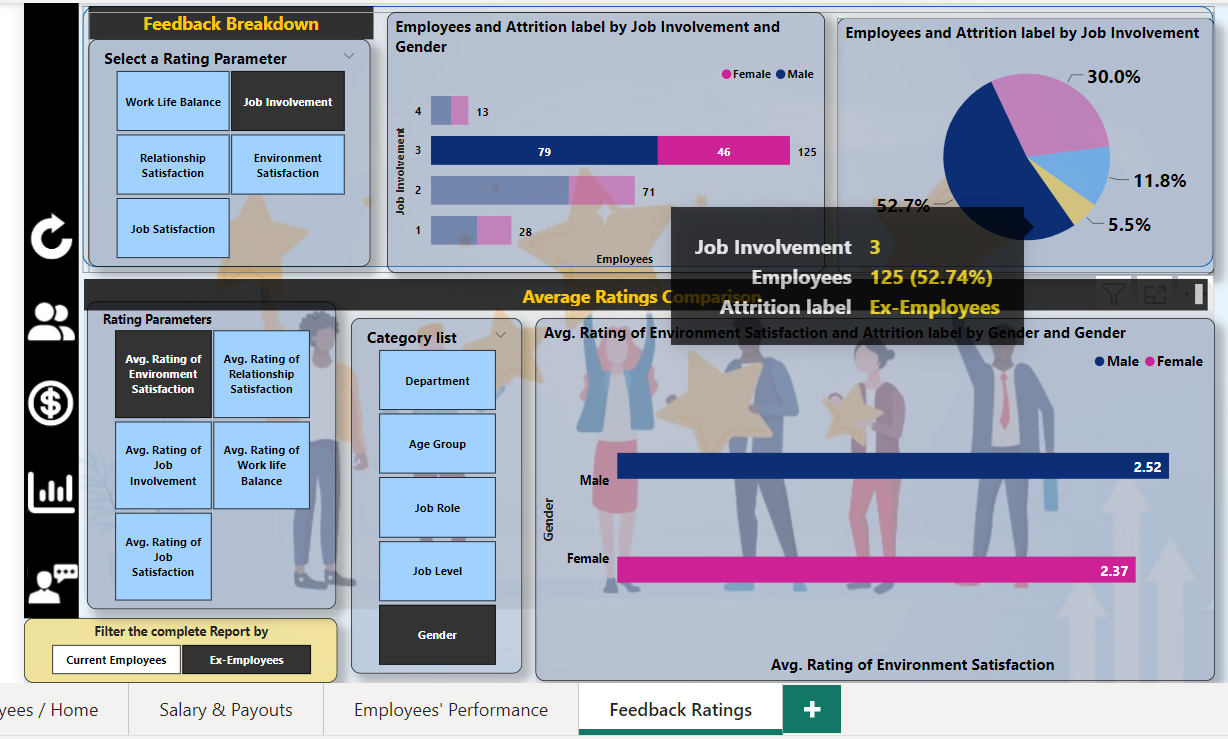

Layout of this report page (visuals, bound fields, positions):
{"tool":"powerbi","page":{"name":"Feedback Ratings","canvas":[1280,720],"ordinal":3},"visuals":[{"type":"shape","box":[0,0,58.2,652],"z":0,"group":"g4"},{"type":"shape","box":[62,3.2,1198.3,276.7],"z":0,"group":"g3"},{"type":"slicer","fields":{"Values":["Set of Rating Matrices.Set of Rating Matrices"]},"box":[68.8,38.1,298.8,241.6],"z":0,"group":"g2"},{"type":"actionButton","box":[0,215.2,58.2,64.7],"z":0,"group":"g1"},{"type":"slicer","title":"Filter the complete Report by","fields":{"Values":["Employees.attrition label"]},"box":[0,651.7,331.7,68.3],"z":0},{"type":"textbox","box":[68.6,3.2,301.7,35],"z":1000,"group":"g3"},{"type":"pieChart","fields":{"Category":["Ratings.Work Life Balance (Rating)"],"Y":["Measures Table.#1 Total Employees"]},"box":[862.2,15,400.5,271.8],"z":1000,"group":"g2"},{"type":"group","id":"g1","title":"Group 6","box":[0,215.2,69.6,432],"z":1000,"group":"g4"},{"type":"actionButton","box":[0,309,58.2,58.2],"z":1000,"group":"g1"},{"type":"shape","box":[542.3,642.6,720,76.7],"z":1000,"group":"g5"},{"type":"group","id":"g2","title":"Group 1","box":[68.8,9.2,1193.9,277.6],"z":2000,"group":"g3"},{"type":"barChart","fields":{"Category":["Ratings.Work Life Balance (Rating)"],"Y":["Measures Table.#1 Total Employees"],"Series":["Employees.Gender"]},"box":[385.4,9.2,464.1,276.6],"z":2000,"group":"g2"},{"type":"shape","box":[64,290.9,1198.3,351.7],"z":2000,"group":"g5"},{"type":"actionButton","box":[0,396.4,58.2,56.6],"z":2000,"group":"g1"},{"type":"actionButton","box":[0,482.2,58.2,74.4],"z":3000,"group":"g1"},{"type":"group","id":"g3","title":"Feedback Breakdown","box":[62,3.2,1200.8,283.6],"z":4000},{"type":"actionButton","box":[0,585.7,69.6,61.5],"z":4000,"group":"g1"},{"type":"slicer","fields":{"Values":["#Parameter- Avg Ratings.#Parameter- Avg Ratings"]},"box":[66.7,316.2,263.8,325.8],"z":5000,"group":"g5"},{"type":"group","id":"g4","title":"Navigation Bar #group","box":[0,0,69.6,652],"z":6000},{"type":"slicer","fields":{"Values":["#Parameter- Category list.#Parameter- Category list"]},"box":[347.2,334,181.2,376.7],"z":7000,"group":"g5"},{"type":"clusteredBarChart","fields":{"Category":["Employees.Department"],"Y":["Measures Table.**Rating avg- Environment Satisfaction"],"Series":["Employees.Gender"]},"box":[542,329,720,389.4],"z":8000,"group":"g5"},{"type":"textbox","box":[63.6,292.3,1190.5,33],"z":9000,"group":"g5"},{"type":"group","id":"g5","title":"Group 2","box":[63.6,290.9,1198.7,428.3],"z":9001}]}

Visuals, with their boxes on the page's 1280x720 design canvas (x1, y1, x2, y2). These are canvas units, not pixel positions in the 1228x739 screenshot, which may show the page scaled, cropped or inside an application window:
shape: {"x1": 0, "y1": 0, "x2": 58, "y2": 652}
shape: {"x1": 62, "y1": 3, "x2": 1260, "y2": 280}
slicer - Set of Rating Matrices.Set of Rating Matrices: {"x1": 69, "y1": 38, "x2": 368, "y2": 280}
actionButton: {"x1": 0, "y1": 215, "x2": 58, "y2": 280}
"Filter the complete Report by" slicer: {"x1": 0, "y1": 652, "x2": 332, "y2": 720}
textbox: {"x1": 69, "y1": 3, "x2": 370, "y2": 38}
pieChart - Ratings.Work Life Balance (Rating) x Measures Table.#1 Total Employees: {"x1": 862, "y1": 15, "x2": 1263, "y2": 287}
"Group 6" group: {"x1": 0, "y1": 215, "x2": 70, "y2": 647}
actionButton: {"x1": 0, "y1": 309, "x2": 58, "y2": 367}
shape: {"x1": 542, "y1": 643, "x2": 1262, "y2": 719}
"Group 1" group: {"x1": 69, "y1": 9, "x2": 1263, "y2": 287}
barChart - Ratings.Work Life Balance (Rating) x Measures Table.#1 Total Employees: {"x1": 385, "y1": 9, "x2": 850, "y2": 286}
shape: {"x1": 64, "y1": 291, "x2": 1262, "y2": 643}
actionButton: {"x1": 0, "y1": 396, "x2": 58, "y2": 453}
actionButton: {"x1": 0, "y1": 482, "x2": 58, "y2": 557}
"Feedback Breakdown" group: {"x1": 62, "y1": 3, "x2": 1263, "y2": 287}
actionButton: {"x1": 0, "y1": 586, "x2": 70, "y2": 647}
slicer - #Parameter- Avg Ratings.#Parameter- Avg Ratings: {"x1": 67, "y1": 316, "x2": 330, "y2": 642}
"Navigation Bar #group" group: {"x1": 0, "y1": 0, "x2": 70, "y2": 652}
slicer - #Parameter- Category list.#Parameter- Category list: {"x1": 347, "y1": 334, "x2": 528, "y2": 711}
clusteredBarChart - Employees.Department x Measures Table.**Rating avg- Environment Satisfaction: {"x1": 542, "y1": 329, "x2": 1262, "y2": 718}
textbox: {"x1": 64, "y1": 292, "x2": 1254, "y2": 325}
"Group 2" group: {"x1": 64, "y1": 291, "x2": 1262, "y2": 719}
